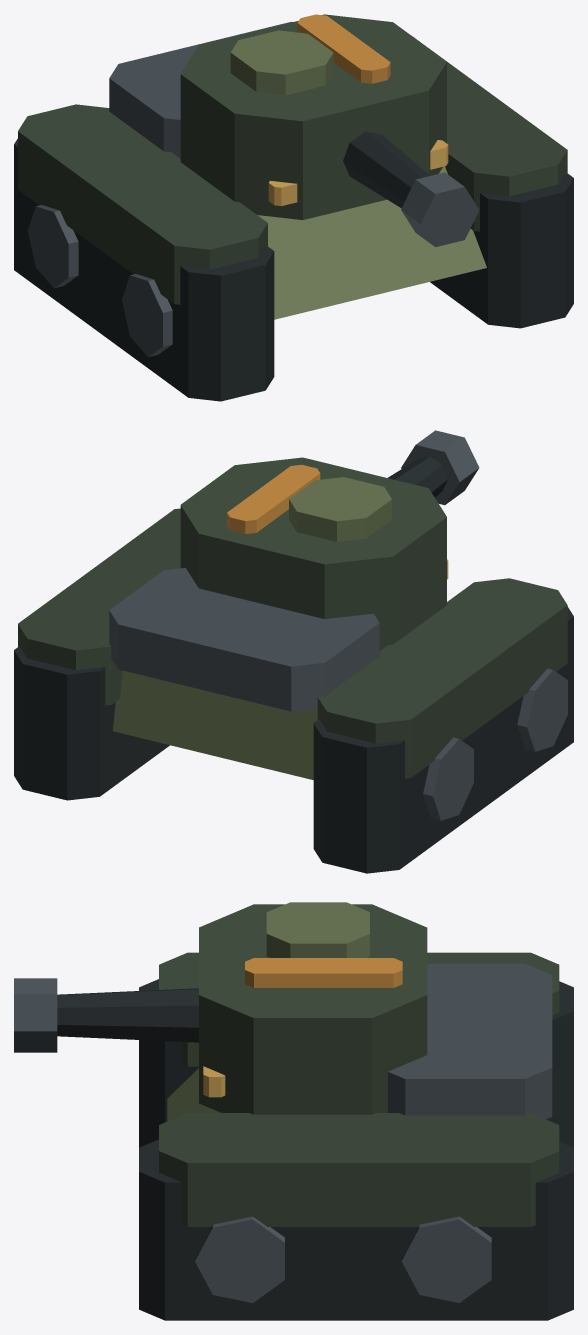
The model's file is medium_tank.glb.
3 views of the same model, one above another, from view 1: azimuth 30°, elevation 25°; view 2: azimuth 150°, elevation 25°; view 3: azimuth 270°, elevation 25° (orthographic). The views are drawn at different scales.
Parts seen in each view (by area): view 1: medium_tank; view 2: medium_tank; view 3: medium_tank.
Part boxes in pixels (x1,y1,x2,y2): medium_tank: (14, 14, 573, 401); medium_tank: (14, 430, 573, 873); medium_tank: (14, 902, 573, 1320).
Bounding box in the file's own units: 0.944 × 0.566 × 1.03.
